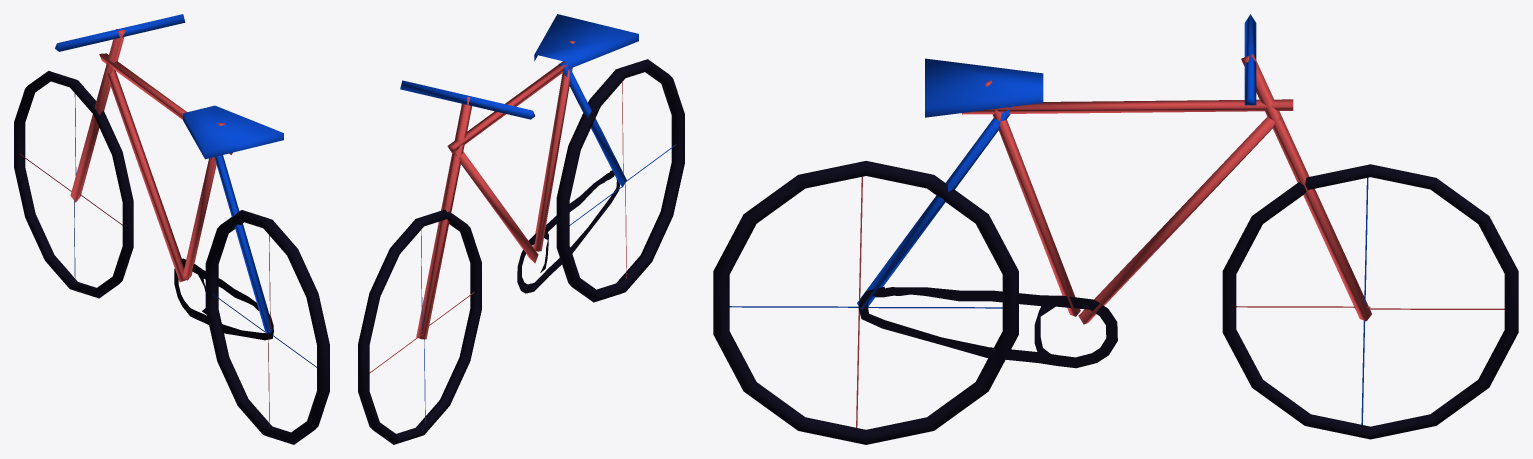
File: lowpolycycle0.fbx
3 renders of one model, left to right at view 1: azimuth 30°, elevation 25°; view 2: azimuth 150°, elevation 25°; view 3: azimuth 270°, elevation 25°, orthographic. The views are drawn at different scales.
Parts seen in each view (by area): view 1: Torus.000; view 2: Torus.000; view 3: Torus.000.
Part boxes in pixels (x1,y1,x2,y2): Torus.000: (14, 14, 329, 444); Torus.000: (358, 14, 684, 444); Torus.000: (713, 14, 1518, 444).
Size of the model in its own units: 227 by 515 by 962.
